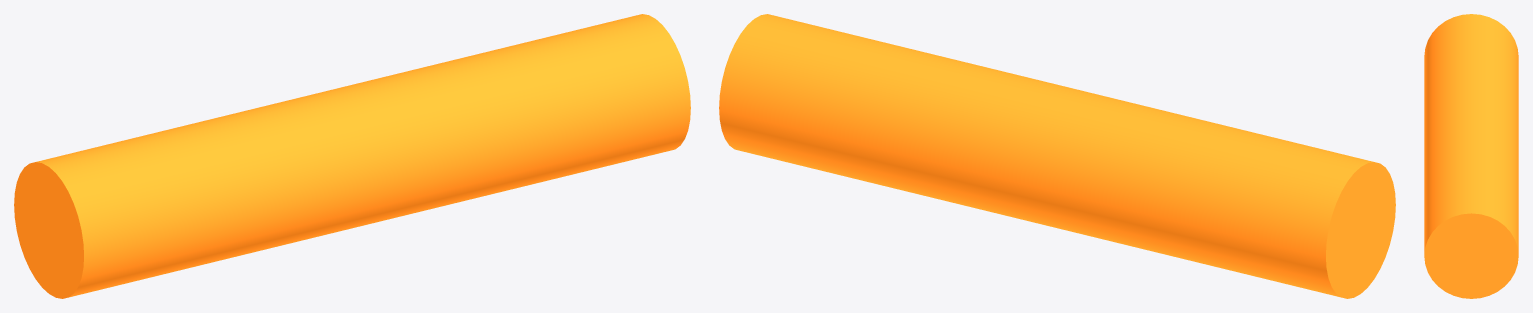
File: resistance-scene.glb
The picture shows the model from 3 angles, left to right: view 1: azimuth 30°, elevation 25°; view 2: azimuth 150°, elevation 25°; view 3: azimuth 270°, elevation 25°; orthographic projection. The views are drawn at different scales.
Visible parts, largest first — view 1: wire; view 2: wire; view 3: wire.
Boxes of the visible parts, x1,y1,x2,y2 form: wire: (14, 14, 690, 298); wire: (719, 14, 1395, 298); wire: (1424, 14, 1518, 298).
Size of what is drawn, in the model's own units: 1 by 0.2 by 0.2.
